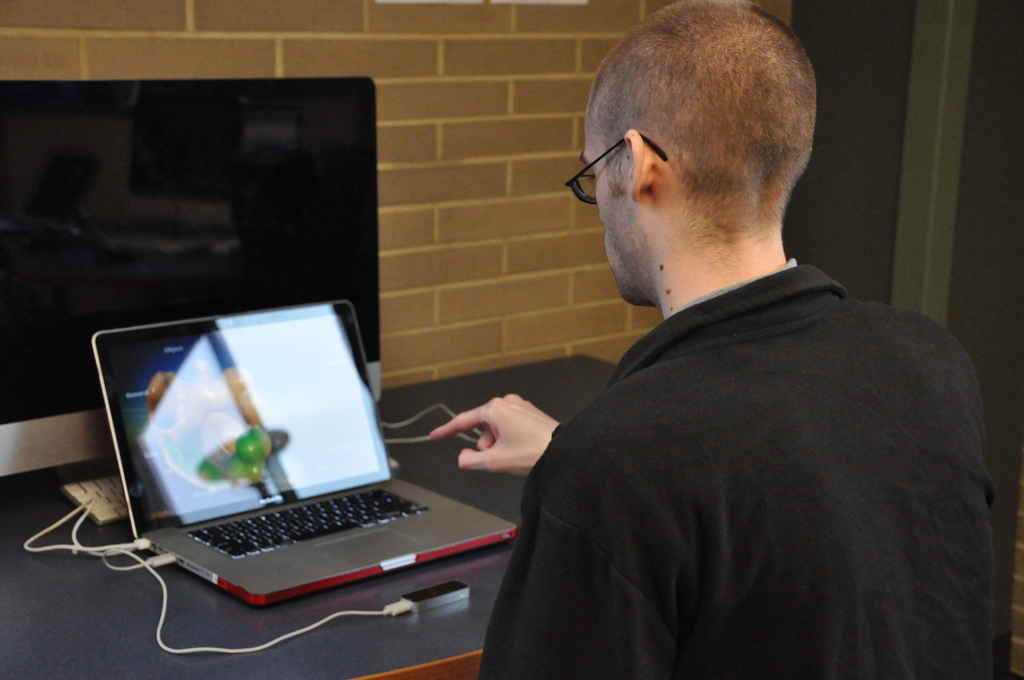Laptop: (89, 298, 512, 606)
